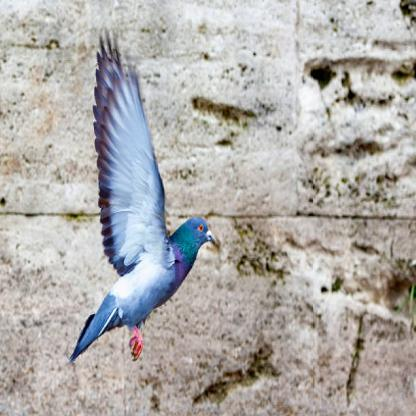Flying Rat: (68, 42, 219, 365)
